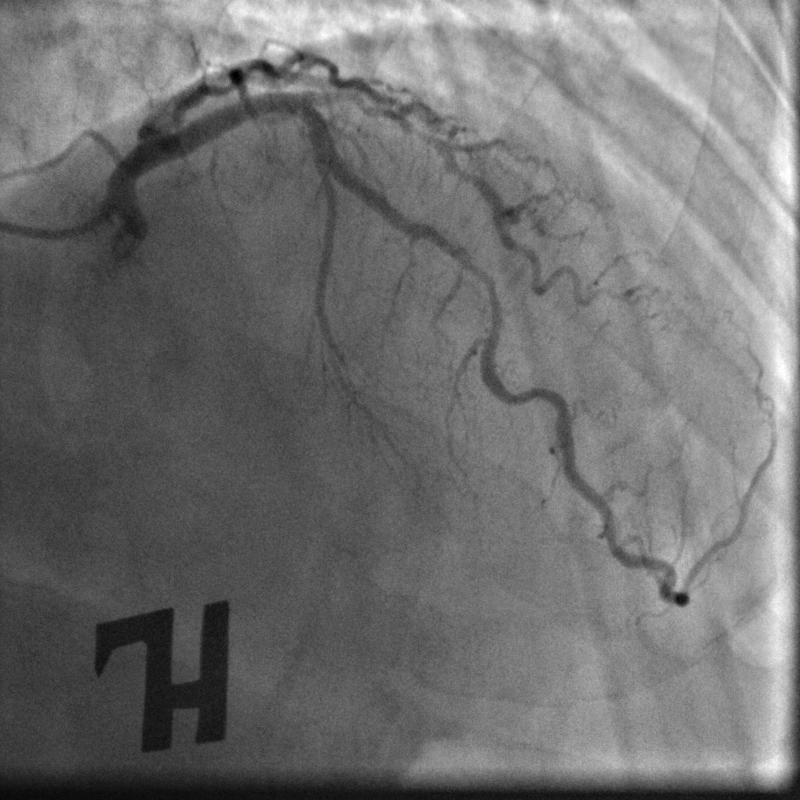Stenosis: (458, 252, 500, 349)
